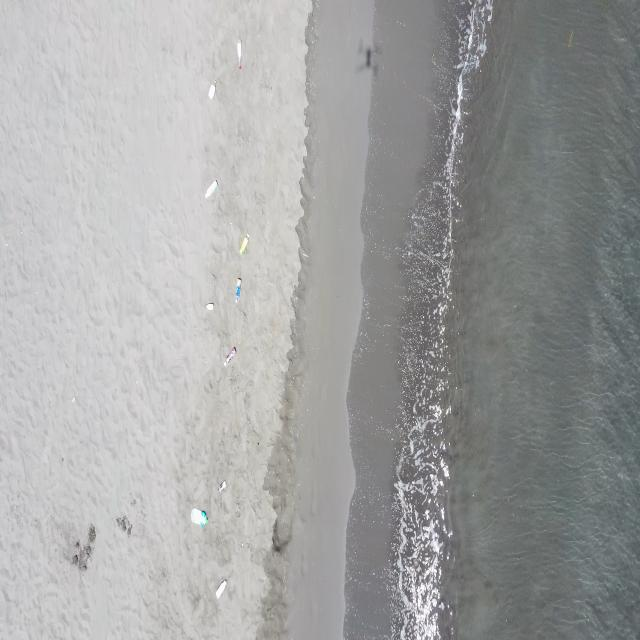Garbage: (192, 507, 207, 527), (224, 346, 236, 366), (204, 179, 216, 198), (216, 580, 226, 597), (239, 233, 247, 253), (207, 83, 215, 99), (236, 39, 240, 68), (236, 278, 240, 301), (219, 480, 226, 492)
